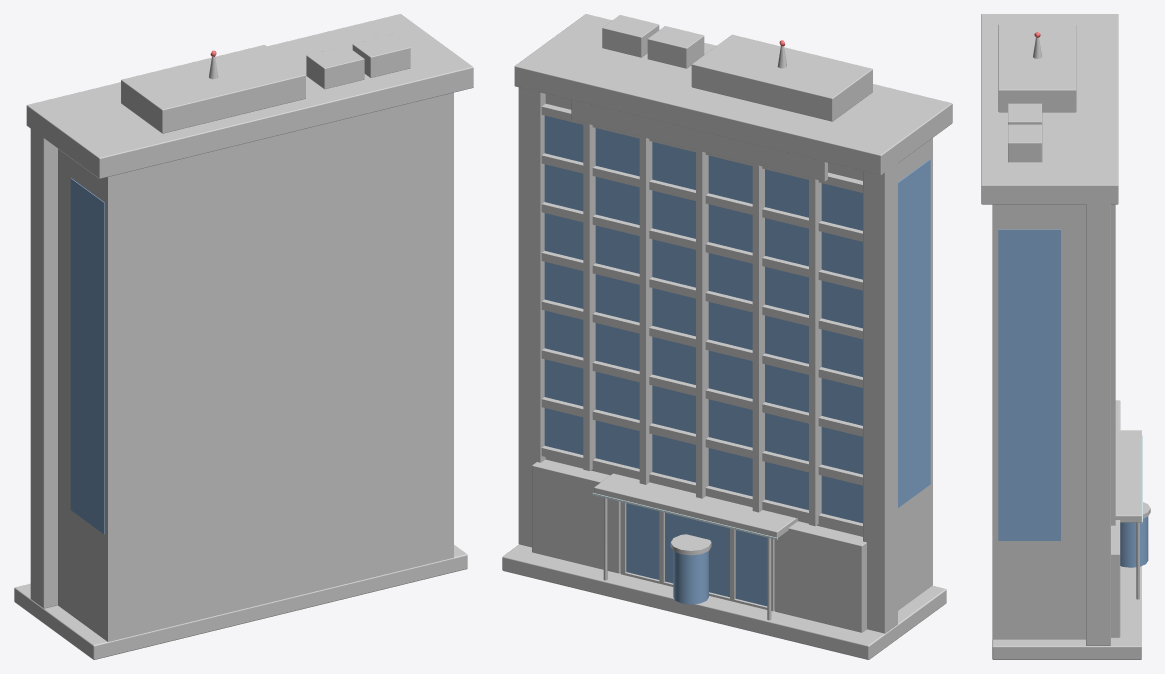
Rendered from OfficeFacade.glb.
The picture shows the model from 3 angles, left to right: view 1: azimuth 30°, elevation 25°; view 2: azimuth 150°, elevation 25°; view 3: azimuth 270°, elevation 25°; orthographic projection. The views are drawn at different scales.
Parts seen in each view (by area): view 1: Body, Glass; view 2: Body, Glass; view 3: Body, Glass.
Part boxes in pixels (left/top/right/bottom): Body: left=14, top=14, right=473, bottom=659; Glass: left=70, top=178, right=104, bottom=534; Body: left=502, top=14, right=952, bottom=659; Glass: left=544, top=115, right=930, bottom=606; Body: left=981, top=14, right=1150, bottom=659; Glass: left=998, top=229, right=1148, bottom=567.
Bounding box in the file's own units: 26 × 36.93 × 10.85.
